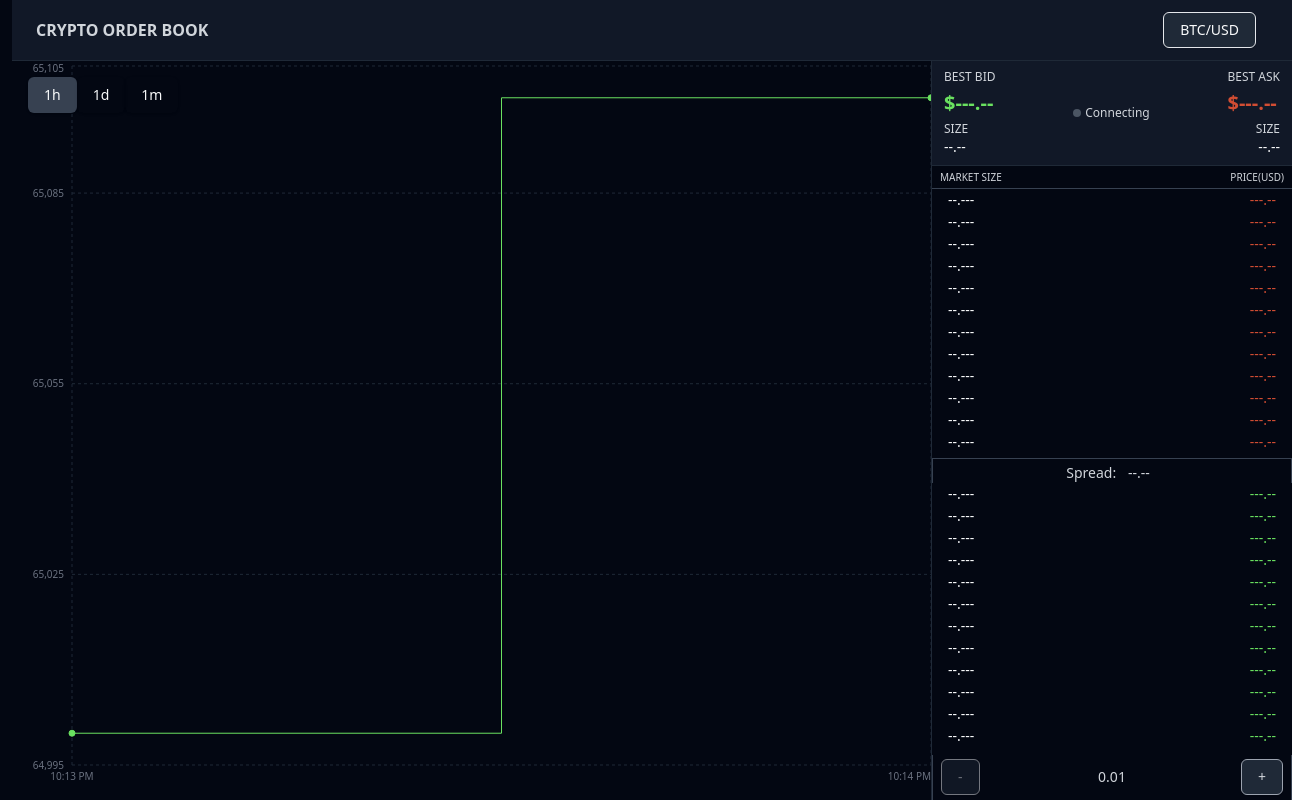
Dashboard interactions › increments the aggregation level when the + button is clicked
This screenshot has width=1292, height=800.
Click the button named "Increase aggregation" at (1262, 777), box [1241,759,1283,795]
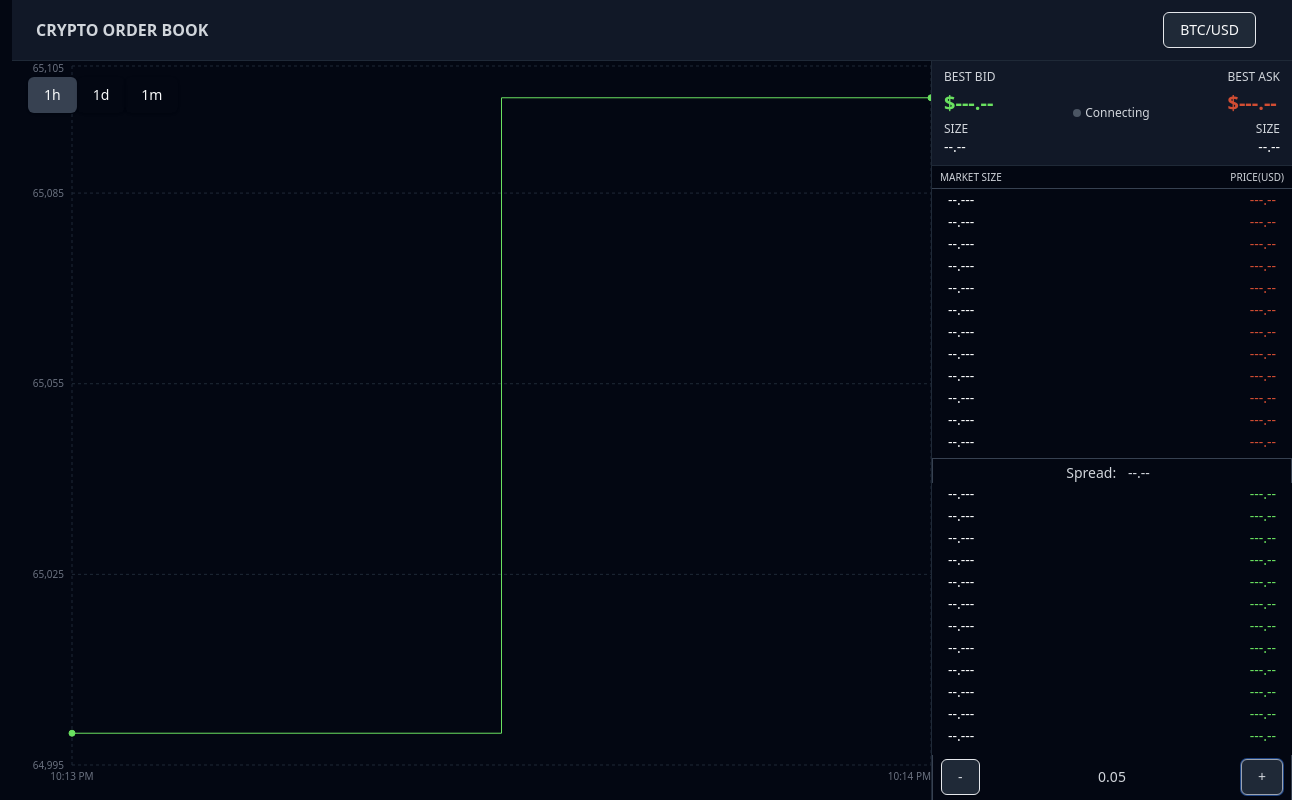
Expected: the text "0.05" is shown, [1098,767,1126,787]
